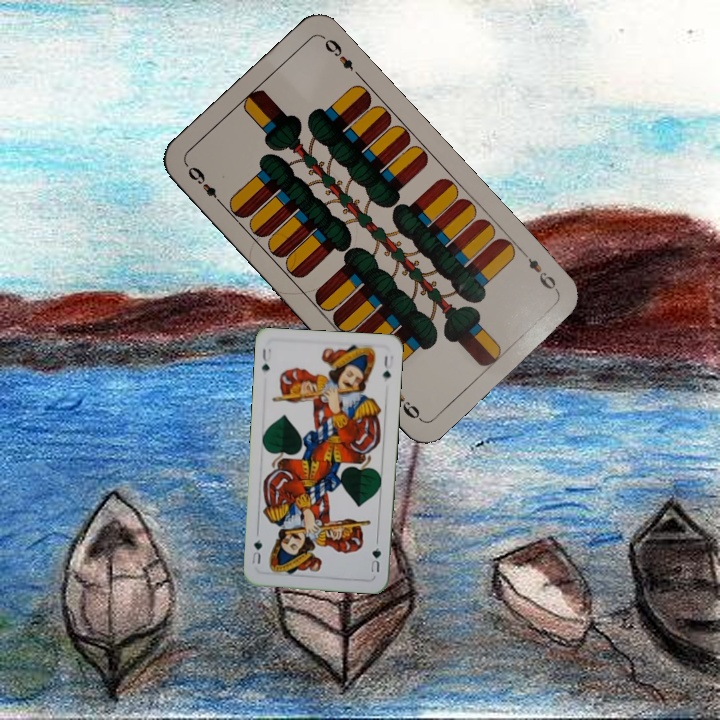E9: (517, 246, 561, 294), (183, 162, 226, 209)
GU: (367, 537, 384, 575), (258, 344, 274, 374)
